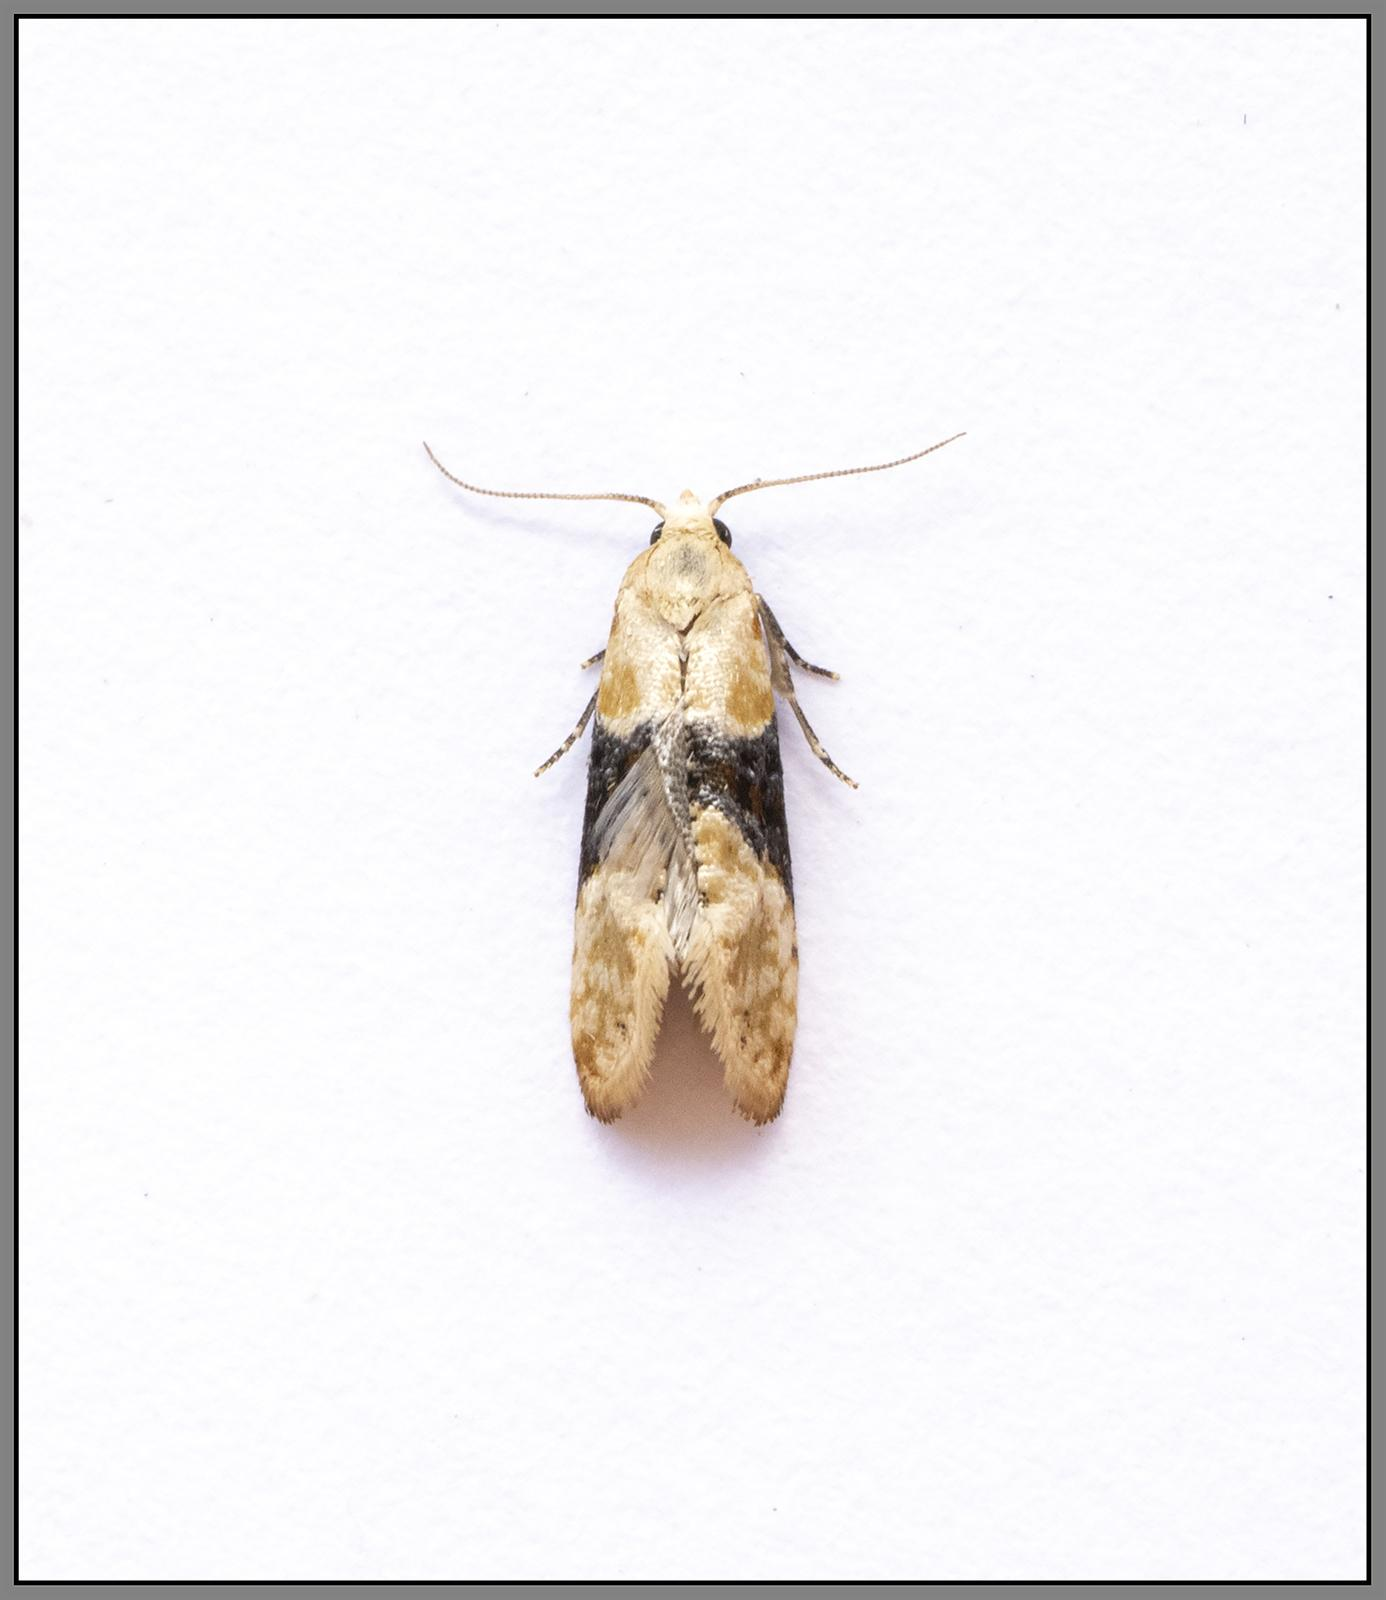Eupoecilia Ambiguella: (418, 424, 973, 1133)
